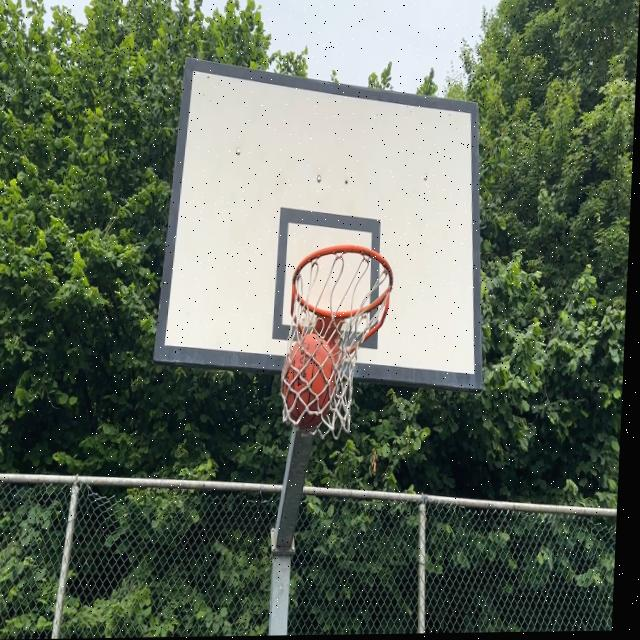Goal: (281, 330, 337, 426)
